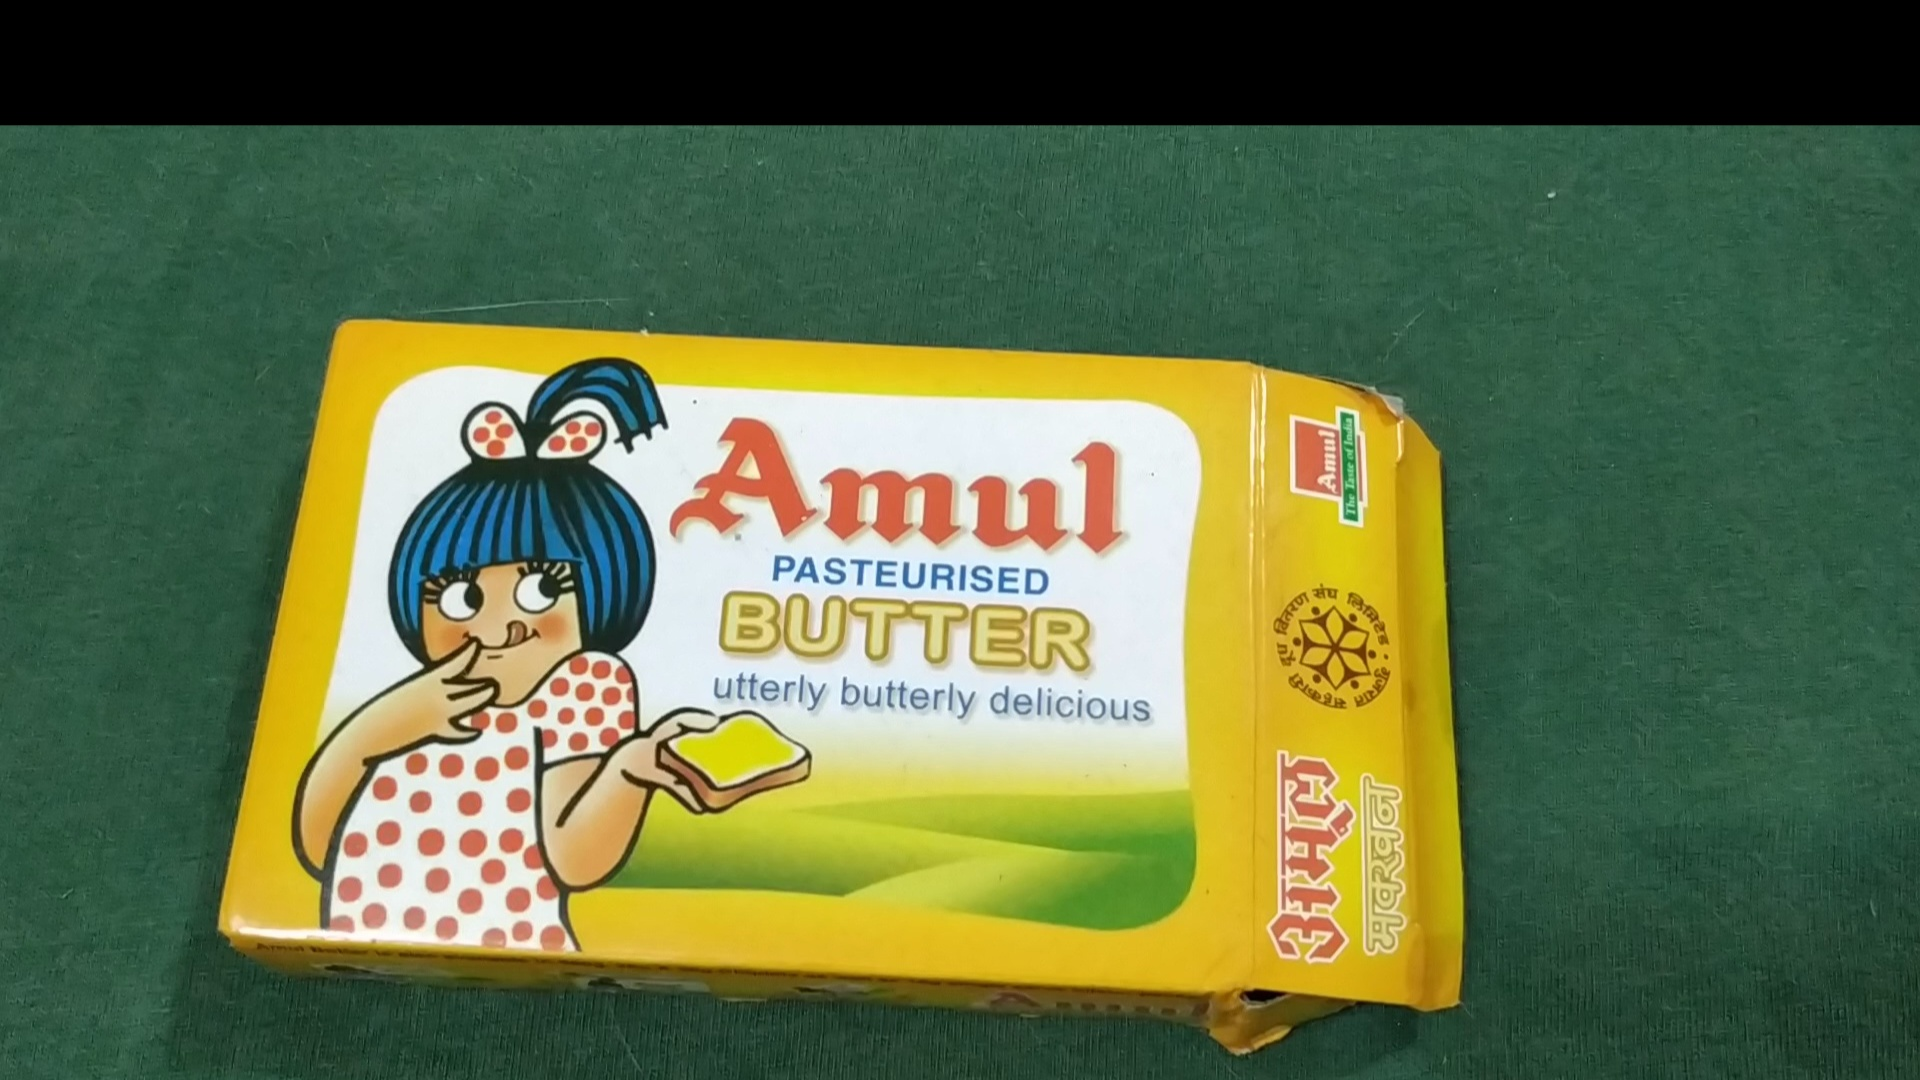amul_butter: (210, 319, 1457, 1043)
